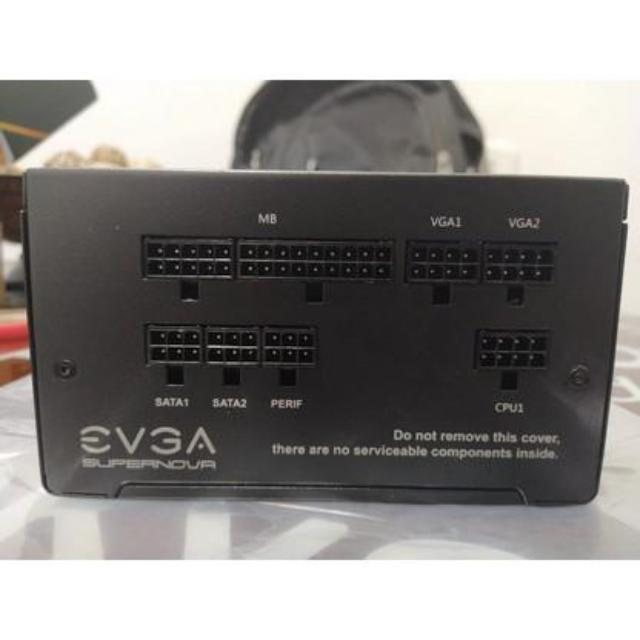PSU: (12, 159, 632, 512)
